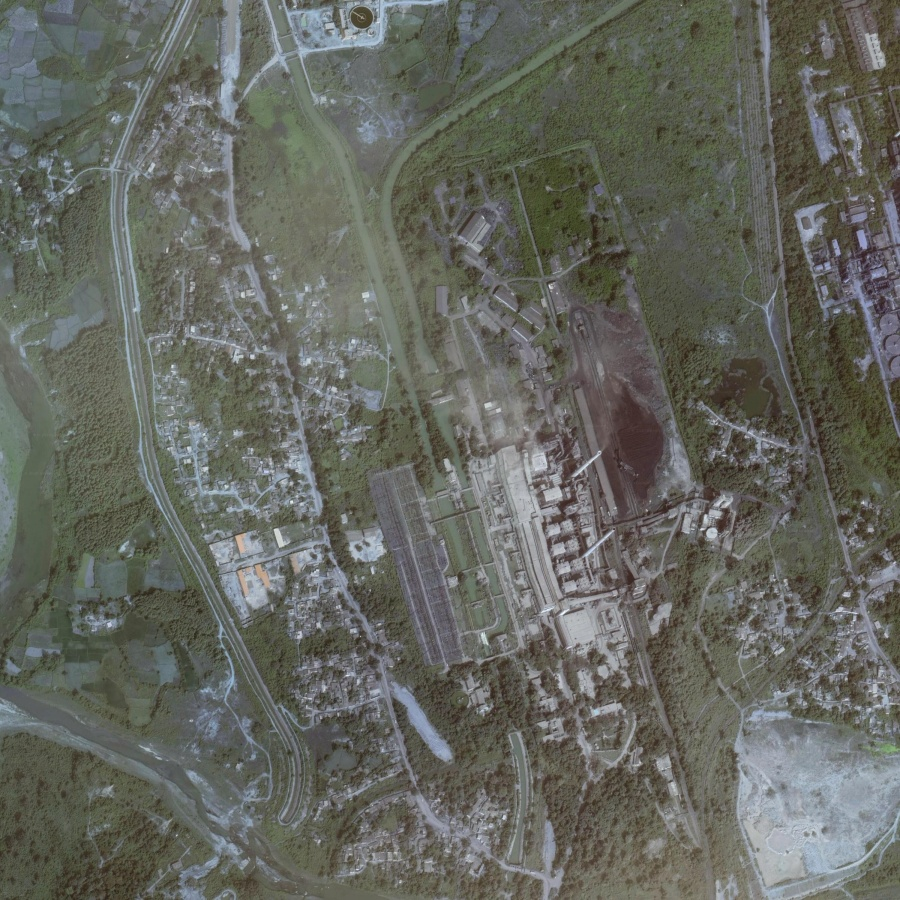PowerPlant: (477, 295, 674, 592)
